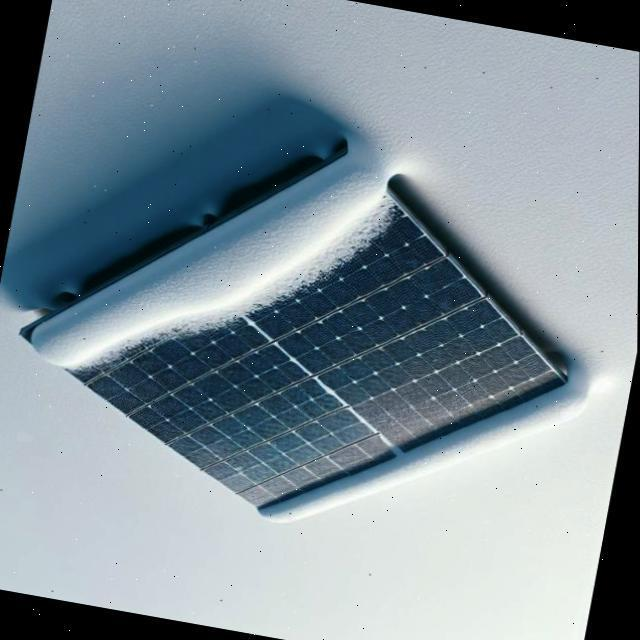Anomaly Solar Panel: (21, 113, 584, 624)
Snow: (25, 146, 412, 425), (259, 383, 586, 543)
